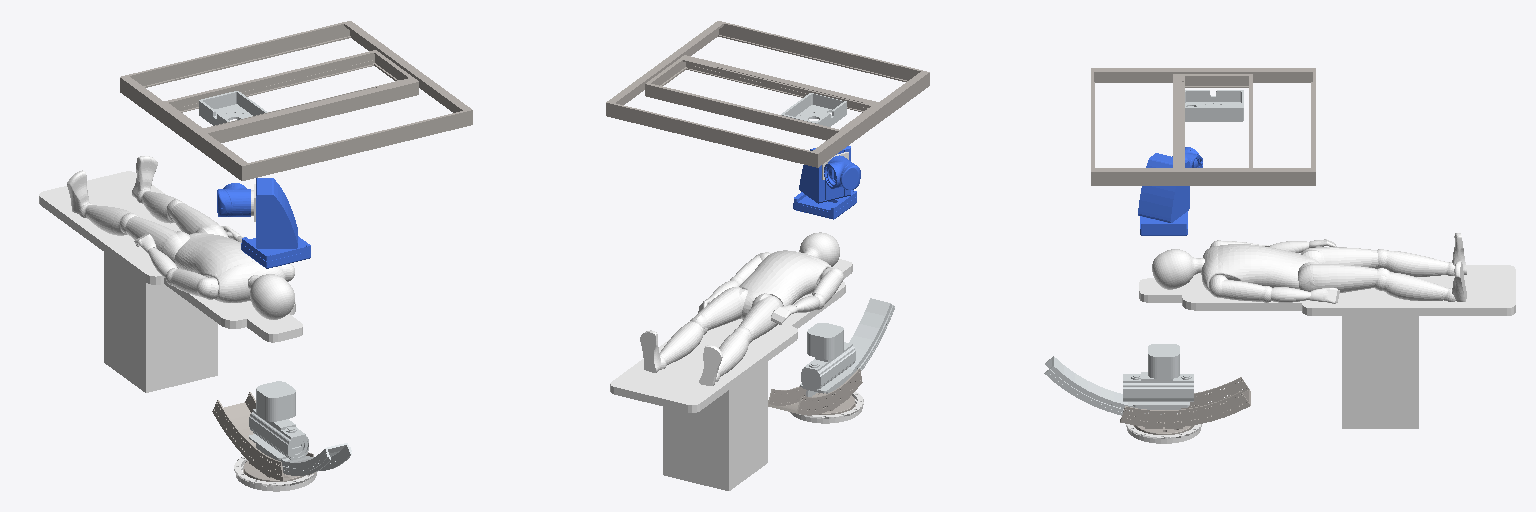
The robot description file, URDF, robot "urdf":
<?xml version="1.0" encoding="utf-8"?>
<!-- This URDF was automatically created by SolidWorks to URDF Exporter! Originally created by Stephen Brawner (brawner@gmail.com) 
     Commit Version: 1.6.0-4-g7f85cfe  Build Version: 1.6.7995.38578
     For more information, please see http://wiki.ros.org/sw_urdf_exporter -->
<robot
  name="urdf">
  <link
    name="base_link">
    <inertial>
      <origin
        xyz="0.00478307835978153 1.05121973908461 -0.330695981430957"
        rpy="0 0 0" />
      <mass
        value="304.234953636665" />
      <inertia
        ixx="90.1522591821221"
        ixy="-0.462705208695536"
        ixz="0.852310892976924"
        iyy="33.7701501412078"
        iyz="11.7772803089235"
        izz="68.2172587684991" />
    </inertial>
    <visual>
      <origin
        xyz="0 0 0"
        rpy="0 0 0" />
      <geometry>
        <mesh
          filename="package://urdf/meshes/base_link.STL" />
      </geometry>
      <material
        name="">
        <color
          rgba="1 1 1 1" />
      </material>
    </visual>
    <collision>
      <origin
        xyz="0 0 0"
        rpy="0 0 0" />
      <geometry>
        <mesh
          filename="package://urdf/meshes/base_link.STL" />
      </geometry>
    </collision>
  </link>
  <link
    name="sl0">
    <inertial>
      <origin
        xyz="0.346529999999998 -0.0602400000000076 0.461998480031364"
        rpy="0 0 0" />
      <mass
        value="41.787704" />
      <inertia
        ixx="7.19032923259476"
        ixy="1.98365821891698E-13"
        ixz="-2.81494477090742E-13"
        iyy="19.1586772519945"
        iyz="4.39211208516002E-16"
        izz="26.285190479197" />
    </inertial>
    <visual>
      <origin
        xyz="0 0 0"
        rpy="0 0 0" />
      <geometry>
        <mesh
          filename="package://urdf/meshes/sl0.STL" />
      </geometry>
      <material
        name="">
        <color
          rgba="0.776470588235294 0.756862745098039 0.737254901960784 1" />
      </material>
    </visual>
    <collision>
      <origin
        xyz="0 0 0"
        rpy="0 0 0" />
      <geometry>
        <mesh
          filename="package://urdf/meshes/sl0.STL" />
      </geometry>
    </collision>
  </link>
  <joint
    name="sj0"
    type="fixed">
    <origin
      xyz="-0.089275 0.28953 0.57515"
      rpy="0 0 0" />
    <parent
      link="base_link" />
    <child
      link="sl0" />
    <axis
      xyz="0 0 0" />
  </joint>
  <link
    name="sl1">
    <inertial>
      <origin
        xyz="0.347115958092308 -0.0213914073165438 0.446507872101157"
        rpy="0 0 0" />
      <mass
        value="38.6341622333333" />
      <inertia
        ixx="1.60215591664924"
        ixy="0.00352266732117361"
        ixz="-0.000780832791317448"
        iyy="8.2224583610419"
        iyz="0.025149688250797"
        izz="9.77414061288849" />
    </inertial>
    <visual>
      <origin
        xyz="0 0 0"
        rpy="0 0 0" />
      <geometry>
        <mesh
          filename="package://urdf/meshes/sl1.STL" />
      </geometry>
      <material
        name="">
        <color
          rgba="0.776470588235294 0.756862745098039 0.737254901960784 1" />
      </material>
    </visual>
    <collision>
      <origin
        xyz="0 0 0"
        rpy="0 0 0" />
      <geometry>
        <mesh
          filename="package://urdf/meshes/sl1.STL" />
      </geometry>
    </collision>
  </link>
  <joint
    name="sj1"
    type="prismatic">
    <origin
      xyz="0 0 0"
      rpy="0 0 0" />
    <parent
      link="sl0" />
    <child
      link="sl1" />
    <axis
      xyz="0 1 0" />
    <limit
      lower="0"
      upper="0"
      effort="0"
      velocity="0" />
  </joint>
  <link
    name="sl2">
    <inertial>
      <origin
        xyz="0.0016064763914958 0.00207075456307326 0.41225224515488"
        rpy="0 0 0" />
      <mass
        value="6.71539551444185" />
      <inertia
        ixx="0.103079924184275"
        ixy="0.000675918545236552"
        ixz="-0.00013689294744187"
        iyy="0.055749435534583"
        iyz="0.000270418653806916"
        izz="0.149714896539797" />
    </inertial>
    <visual>
      <origin
        xyz="0 0 0"
        rpy="0 0 0" />
      <geometry>
        <mesh
          filename="package://urdf/meshes/sl2.STL" />
      </geometry>
      <material
        name="">
        <color
          rgba="0.898039215686275 0.917647058823529 0.929411764705882 1" />
      </material>
    </visual>
    <collision>
      <origin
        xyz="0 0 0"
        rpy="0 0 0" />
      <geometry>
        <mesh
          filename="package://urdf/meshes/sl2.STL" />
      </geometry>
    </collision>
  </link>
  <joint
    name="sj2"
    type="prismatic">
    <origin
      xyz="0 0 0"
      rpy="0 0 0" />
    <parent
      link="sl1" />
    <child
      link="sl2" />
    <axis
      xyz="1 0 0" />
    <limit
      lower="0"
      upper="0"
      effort="0"
      velocity="0" />
  </joint>
  <link
    name="sl3">
    <inertial>
      <origin
        xyz="-0.00223797136858805 -0.00393767385627564 0.201106316757155"
        rpy="0 0 0" />
      <mass
        value="19.9333026558369" />
      <inertia
        ixx="0.35902168470004"
        ixy="-0.00573523352810982"
        ixz="-0.00906284657187316"
        iyy="0.35217132560699"
        iyz="-0.0162097000975584"
        izz="0.0818186365682729" />
    </inertial>
    <visual>
      <origin
        xyz="0 0 0"
        rpy="0 0 0" />
      <geometry>
        <mesh
          filename="package://urdf/meshes/sl3.STL" />
      </geometry>
      <material
        name="">
        <color
          rgba="0.341176470588235 0.537254901960784 1 1" />
      </material>
    </visual>
    <collision>
      <origin
        xyz="0 0 0"
        rpy="0 0 0" />
      <geometry>
        <mesh
          filename="package://urdf/meshes/sl3.STL" />
      </geometry>
    </collision>
  </link>
  <joint
    name="sj3"
    type="continuous">
    <origin
      xyz="0 0 0"
      rpy="0 0 0" />
    <parent
      link="sl2" />
    <child
      link="sl3" />
    <axis
      xyz="0 0 -1" />
  </joint>
  <link
    name="sl4">
    <inertial>
      <origin
        xyz="-0.00445116151465452 2.28362666932908E-05 -0.201220163181438"
        rpy="0 0 0" />
      <mass
        value="3.14305497960856" />
      <inertia
        ixx="0.0102156134402908"
        ixy="2.31599837012837E-06"
        ixz="5.40456754224454E-05"
        iyy="0.0142592517142484"
        iyz="2.65500040893468E-06"
        izz="0.0140404387118133" />
    </inertial>
    <visual>
      <origin
        xyz="0 0 0"
        rpy="0 0 0" />
      <geometry>
        <mesh
          filename="package://urdf/meshes/sl4.STL" />
      </geometry>
      <material
        name="">
        <color
          rgba="0.341176470588235 0.537254901960784 1 1" />
      </material>
    </visual>
    <collision>
      <origin
        xyz="0 0 0"
        rpy="0 0 0" />
      <geometry>
        <mesh
          filename="package://urdf/meshes/sl4.STL" />
      </geometry>
    </collision>
  </link>
  <joint
    name="sj4"
    type="continuous">
    <origin
      xyz="0 0 0"
      rpy="-1.5708 0 -0.514" />
    <parent
      link="sl3" />
    <child
      link="sl4" />
    <axis
      xyz="0 0 1" />
  </joint>
  <link
    name="sl5">
    <inertial>
      <origin
        xyz="2.22044604925031E-16 -9.99200722162641E-16 -0.110699132730647"
        rpy="0 0 0" />
      <mass
        value="0.28121959450765" />
      <inertia
        ixx="0.000603528036255437"
        ixy="1.37665954911011E-19"
        ixz="-1.24683249835833E-18"
        iyy="0.00111799163625543"
        iyz="2.65613670225958E-18"
        izz="0.001636699858541" />
    </inertial>
    <visual>
      <origin
        xyz="0 0 0"
        rpy="0 0 0" />
      <geometry>
        <mesh
          filename="package://urdf/meshes/sl5.STL" />
      </geometry>
      <material
        name="">
        <color
          rgba="1 1 1 1" />
      </material>
    </visual>
    <collision>
      <origin
        xyz="0 0 0"
        rpy="0 0 0" />
      <geometry>
        <mesh
          filename="package://urdf/meshes/sl5.STL" />
      </geometry>
    </collision>
  </link>
  <joint
    name="sj5"
    type="continuous">
    <origin
      xyz="0 0 -0.208"
      rpy="3.1416 1.5708 0" />
    <parent
      link="sl4" />
    <child
      link="sl5" />
    <axis
      xyz="0 0 1" />
  </joint>
  <link
    name="sl6">
    <inertial>
      <origin
        xyz="0.178586074090916 -0.100833508965035 -0.0812762189842713"
        rpy="0 0 0" />
      <mass
        value="12.2648408415626" />
      <inertia
        ixx="0.143285764218899"
        ixy="-0.00425672689582774"
        ixz="0.0162734864039204"
        iyy="0.138150120555556"
        iyz="-0.00918835774600602"
        izz="0.0887198681378966" />
    </inertial>
    <visual>
      <origin
        xyz="0 0 0"
        rpy="0 0 0" />
      <geometry>
        <mesh
          filename="package://urdf/meshes/sl6.STL" />
      </geometry>
      <material
        name="">
        <color
          rgba="0.341176470588235 0.537254901960784 1 1" />
      </material>
    </visual>
    <collision>
      <origin
        xyz="0 0 0"
        rpy="0 0 0" />
      <geometry>
        <mesh
          filename="package://urdf/meshes/sl6.STL" />
      </geometry>
    </collision>
  </link>
  <joint
    name="sj6"
    type="prismatic">
    <origin
      xyz="0 0 0"
      rpy="1.5708 1.0568 -3.1416" />
    <parent
      link="sl5" />
    <child
      link="sl6" />
    <axis
      xyz="0 0 1" />
    <limit
      lower="0"
      upper="0"
      effort="0"
      velocity="0" />
  </joint>
  <link
    name="sl7">
    <inertial>
      <origin
        xyz="0.00077999999999423 -0.00711146039192601 0.302810411467565"
        rpy="0 0 0" />
      <mass
        value="12.6862908960779" />
      <inertia
        ixx="0.0829794853897317"
        ixy="1.66939717321297E-17"
        ixz="5.45992188467803E-16"
        iyy="0.0911002993095724"
        iyz="0.00272945140757498"
        izz="0.162582106811634" />
    </inertial>
    <visual>
      <origin
        xyz="0 0 0"
        rpy="0 0 0" />
      <geometry>
        <mesh
          filename="package://urdf/meshes/sl7.STL" />
      </geometry>
      <material
        name="">
        <color
          rgba="0.341176470588235 0.537254901960784 1 1" />
      </material>
    </visual>
    <collision>
      <origin
        xyz="0 0 0"
        rpy="0 0 0" />
      <geometry>
        <mesh
          filename="package://urdf/meshes/sl7.STL" />
      </geometry>
    </collision>
  </link>
  <joint
    name="sj7"
    type="continuous">
    <origin
      xyz="0.19154 -0.10841 -0.57515"
      rpy="0 0 0" />
    <parent
      link="sl6" />
    <child
      link="sl7" />
    <axis
      xyz="0 0 1" />
  </joint>
  <link
    name="xl1">
    <inertial>
      <origin
        xyz="-0.000645134124644953 0.0673011033689939 -0.968776000125011"
        rpy="0 0 0" />
      <mass
        value="21.922679204001" />
      <inertia
        ixx="0.709341042983841"
        ixy="-0.00045406087827133"
        ixz="-0.000367155954536005"
        iyy="0.235102607886696"
        iyz="-0.12450287803649"
        izz="0.828206727903992" />
    </inertial>
    <visual>
      <origin
        xyz="0 0 0"
        rpy="0 0 0" />
      <geometry>
        <mesh
          filename="package://urdf/meshes/xl1.STL" />
      </geometry>
      <material
        name="">
        <color
          rgba="0.776470588235294 0.756862745098039 0.737254901960784 1" />
      </material>
    </visual>
    <collision>
      <origin
        xyz="0 0 0"
        rpy="0 0 0" />
      <geometry>
        <mesh
          filename="package://urdf/meshes/xl1.STL" />
      </geometry>
    </collision>
  </link>
  <joint
    name="xj1"
    type="continuous">
    <origin
      xyz="0 0 0"
      rpy="0 0 0" />
    <parent
      link="base_link" />
    <child
      link="xl1" />
    <axis
      xyz="0 0 1" />
  </joint>
  <link
    name="xl2">
    <inertial>
      <origin
        xyz="-0.000218755880287969 -0.110193204153205 -0.772110332718956"
        rpy="0 0 0" />
      <mass
        value="22.9859780803508" />
      <inertia
        ixx="1.1878347857685"
        ixy="-0.000982325850778818"
        ixz="-0.000226915054435026"
        iyy="0.30669497442547"
        iyz="0.0219603188984333"
        izz="0.982727086010116" />
    </inertial>
    <visual>
      <origin
        xyz="0 0 0"
        rpy="0 0 0" />
      <geometry>
        <mesh
          filename="package://urdf/meshes/xl2.STL" />
      </geometry>
      <material
        name="">
        <color
          rgba="0.898039215686275 0.917647058823529 0.929411764705882 1" />
      </material>
    </visual>
    <collision>
      <origin
        xyz="0 0 0"
        rpy="0 0 0" />
      <geometry>
        <mesh
          filename="package://urdf/meshes/xl2.STL" />
      </geometry>
    </collision>
  </link>
  <joint
    name="xj2"
    type="continuous">
    <origin
      xyz="0 0 0"
      rpy="0 0 0" />
    <parent
      link="xl1" />
    <child
      link="xl2" />
    <axis
      xyz="1 0 0" />
  </joint>
  <link
    name="xl3">
    <inertial>
      <origin
        xyz="0.0356753447847546 0.705694644859027 -0.0350286094748493"
        rpy="0 0 0" />
      <mass
        value="494.103740919516" />
      <inertia
        ixx="379.03076774171"
        ixy="6.29906147538702"
        ixz="-17.4205969460951"
        iyy="246.892939619931"
        iyz="76.4568361958471"
        izz="210.093010634694" />
    </inertial>
    <visual>
      <origin
        xyz="0 0 0"
        rpy="0 0 0" />
      <geometry>
        <mesh
          filename="package://urdf/meshes/xl3.STL" />
      </geometry>
      <material
        name="">
        <color
          rgba="1 1 1 1" />
      </material>
    </visual>
    <collision>
      <origin
        xyz="0 0 0"
        rpy="0 0 0" />
      <geometry>
        <mesh
          filename="package://urdf/meshes/xl3.STL" />
      </geometry>
    </collision>
  </link>
  <joint
    name="xj3"
    type="fixed">
    <origin
      xyz="0 0 0"
      rpy="0 0 0" />
    <parent
      link="xl2" />
    <child
      link="xl3" />
    <axis
      xyz="0 0 0" />
  </joint>
</robot>

--- What the picture shows (computed from the rendered views, not written in the file) ---
The picture shows the robot from 3 angles, left to right: view 1: azimuth 30°, elevation 25°; view 2: azimuth 150°, elevation 25°; view 3: azimuth 270°, elevation 25°; orthographic projection.
Robot: urdf — 12 links, 11 joints (6 continuous, 3 prismatic, 2 fixed); root link base_link; default pose: all joints at 0.
Visible links, largest first — view 1: base_link, sl0, sl1, xl2, xl1, sl6, sl2, sl7, sl4; view 2: base_link, sl0, sl1, xl2, xl1, sl2, sl6, sl7, sl4; view 3: base_link, sl0, xl2, xl1, sl1, sl6, sl2, sl7.
Link boxes in pixels (box(x1,y1,x2,y2)): base_link: box(39, 156, 317, 491); sl0: box(120, 21, 472, 180); sl1: box(164, 50, 418, 142); xl2: box(249, 381, 351, 475); xl1: box(212, 392, 315, 481); sl6: box(256, 178, 297, 248); sl2: box(199, 91, 267, 125); sl7: box(241, 236, 310, 268); sl4: box(217, 183, 250, 216); base_link: box(610, 232, 863, 490); sl0: box(606, 21, 929, 167); sl1: box(645, 55, 878, 140); xl2: box(800, 298, 894, 396); xl1: box(768, 368, 862, 415); sl2: box(781, 93, 846, 126); sl6: box(799, 146, 850, 203); sl7: box(793, 190, 856, 219); sl4: box(824, 155, 860, 189); base_link: box(1126, 233, 1515, 443); sl0: box(1091, 68, 1315, 185); xl2: box(1044, 344, 1193, 415); xl1: box(1120, 377, 1250, 434); sl1: box(1173, 74, 1252, 167); sl6: box(1138, 153, 1189, 222); sl2: box(1185, 90, 1243, 121); sl7: box(1140, 211, 1187, 235).
Size in the robot's own frame: 1.44 by 2.76 by 2.11 metres.
Meshes: 12 distinct files referenced, 10 mesh visuals loaded (10 binary STL); not drawn: 1 (reference not matched to a file when rendering), 1 (file found but could not be loaded).
